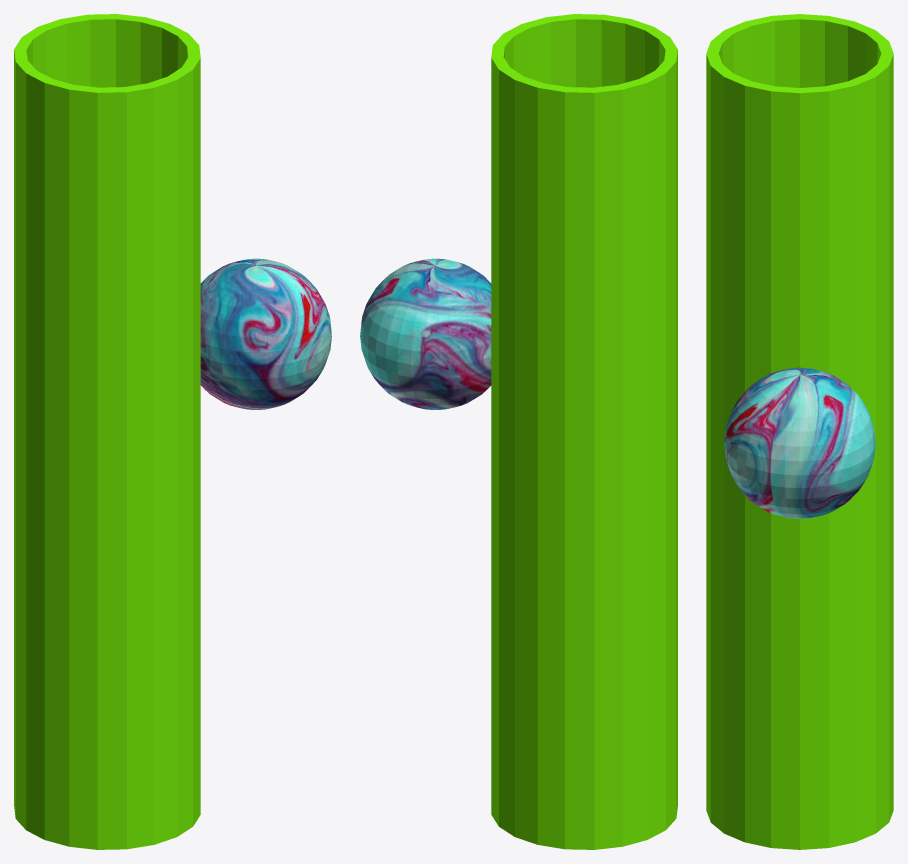
File: pipe and ball.fbx
3 views of the same model, side by side, from view 1: azimuth 30°, elevation 25°; view 2: azimuth 150°, elevation 25°; view 3: azimuth 270°, elevation 25° (orthographic).
Visible parts, largest first — view 1: Cylinder, Sphere; view 2: Cylinder, Sphere; view 3: Cylinder, Sphere.
Part boxes in pixels (x1,y1,x2,y2): Cylinder: (14, 14, 200, 849); Sphere: (200, 258, 331, 409); Cylinder: (491, 14, 677, 849); Sphere: (360, 258, 491, 409); Cylinder: (706, 14, 893, 849); Sphere: (724, 367, 875, 518).
Bounding box in the file's own units: 140 × 344 × 77.18.
Materials: 2 (1 with a texture image).
